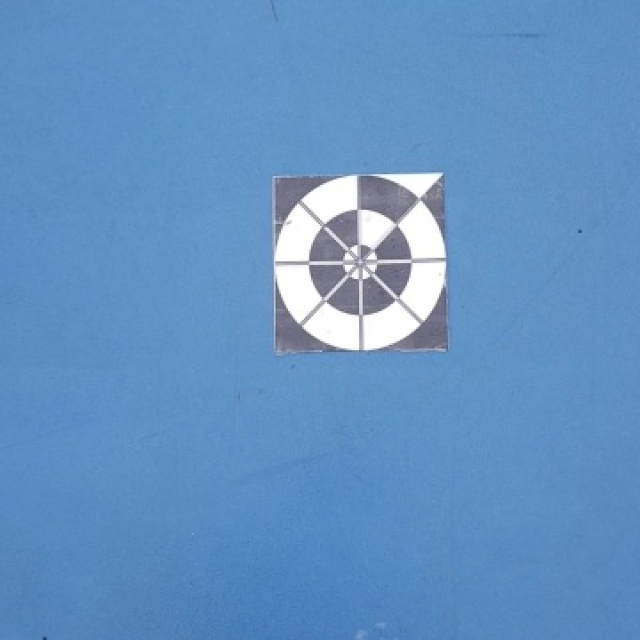landing-zone: (264, 167, 456, 357)
